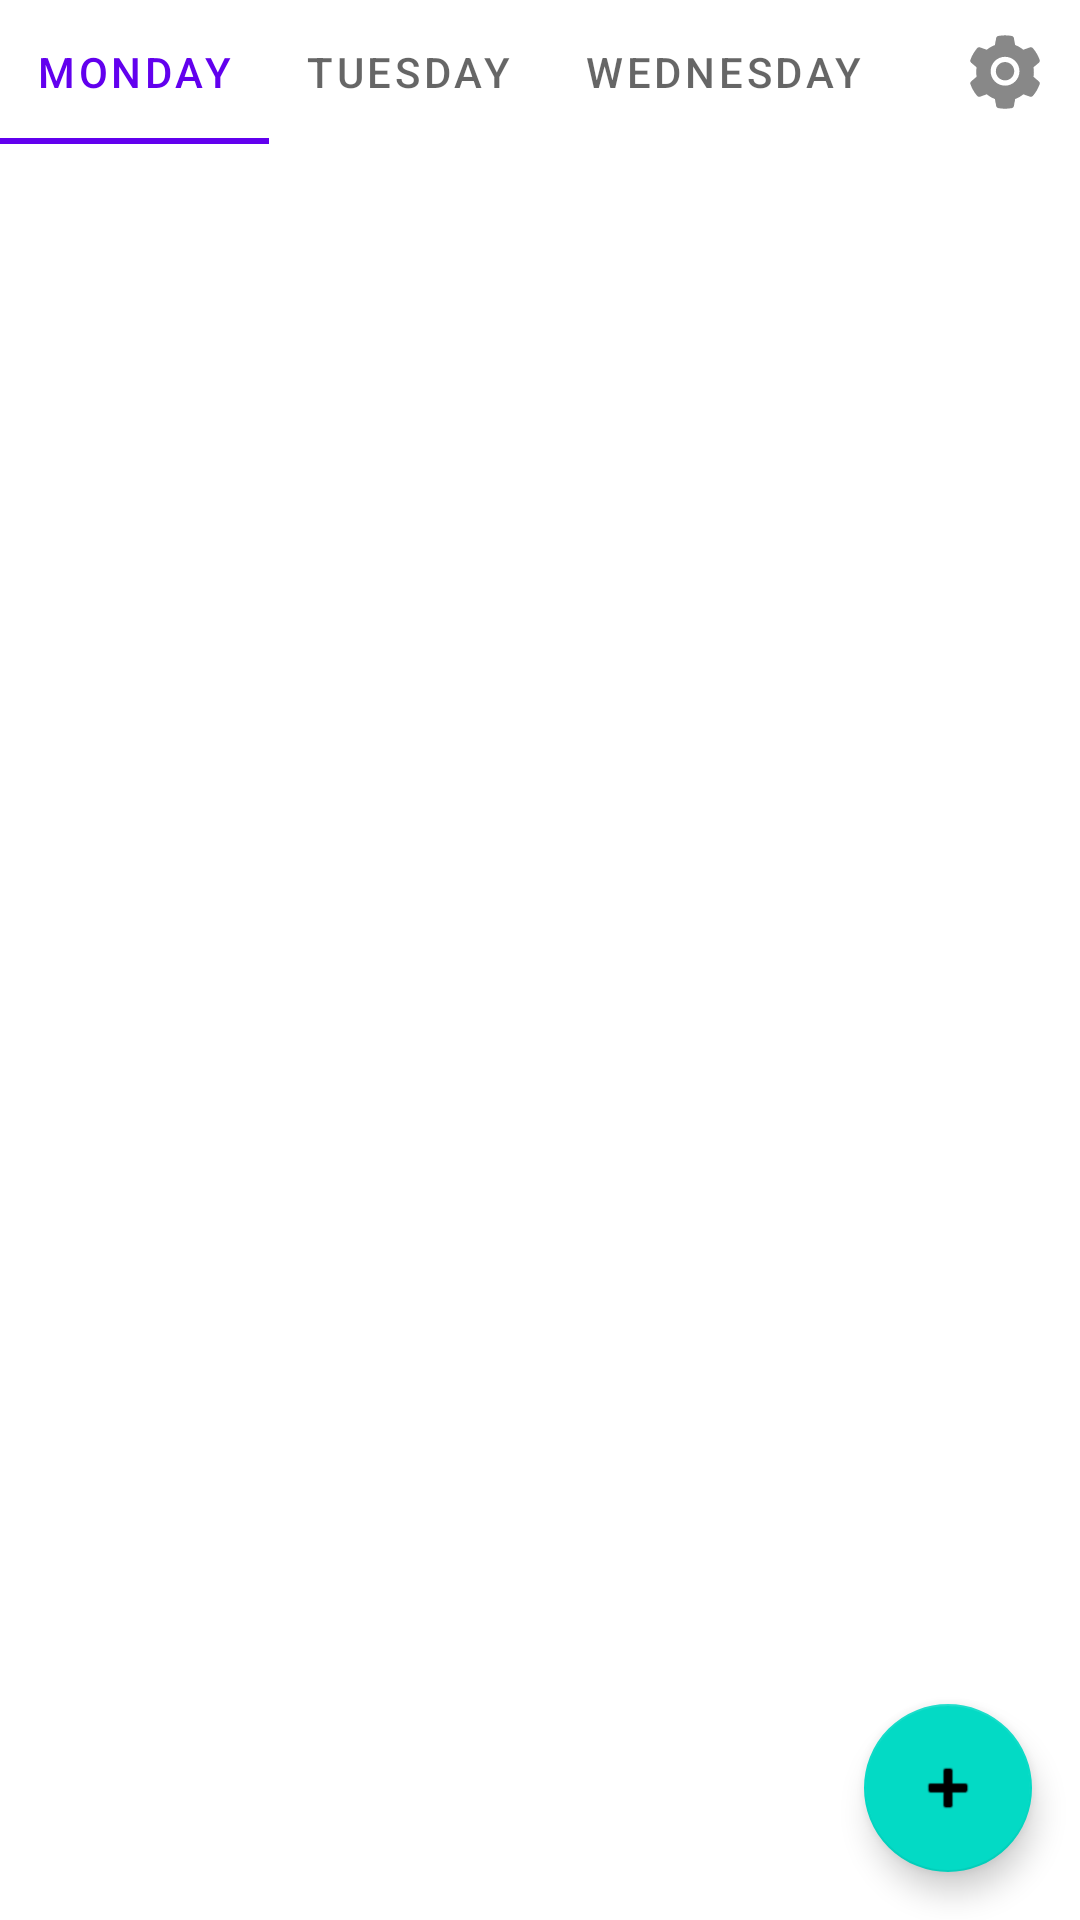

Icon bounding boxes for this 1080 x 1920 phone screenshot, format (x1, y1, x2, y2):
add: (864, 1704, 1032, 1872)
setting: (970, 35, 1040, 109)
